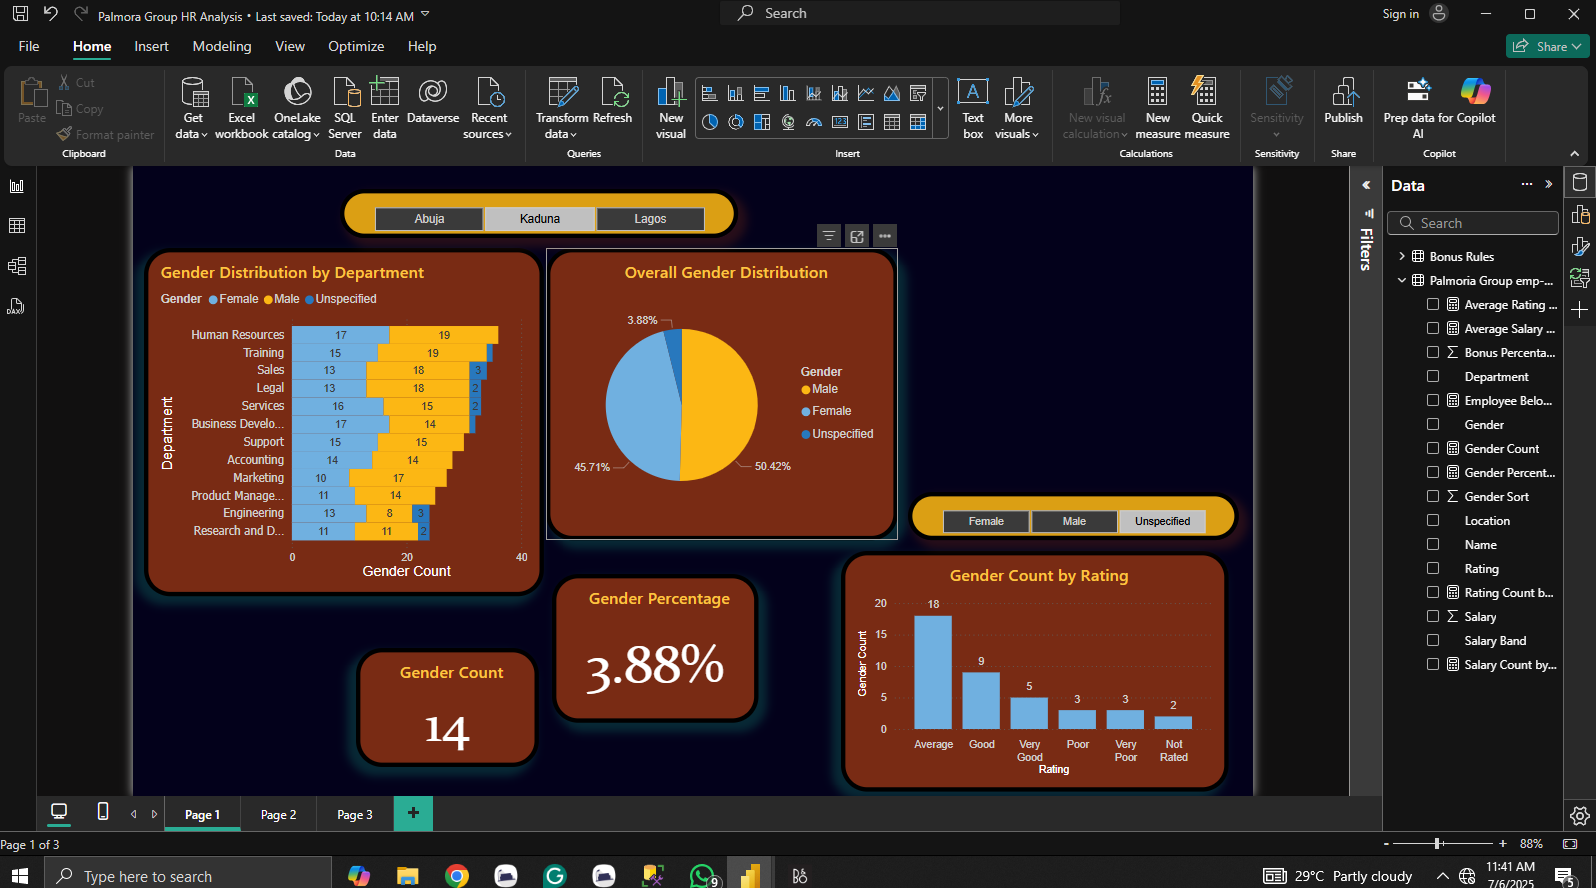

This screenshot's page, from the dashboard's own definition file:
{"tool":"powerbi","page":{"name":"Page 1","canvas":[1280,720],"ordinal":0},"visuals":[{"type":"barChart","title":"Gender Distribution by Department","fields":{"Category":["Palmoria Group emp-data (ORIGINAL).Department"],"Series":["Palmoria Group emp-data (ORIGINAL).Gender"],"Y":["Palmoria Group emp-data (ORIGINAL).Gender Count"]},"box":[12.6,93.7,457.1,397.7],"z":0},{"type":"pieChart","title":"Overall Gender Distribution","fields":{"Category":["Palmoria Group emp-data (ORIGINAL).Gender"],"Y":["Palmoria Group emp-data (ORIGINAL).Gender Percentage"]},"box":[472,93.7,402.3,333.7],"z":1000},{"type":"slicer","fields":{"Values":["Palmoria Group emp-data (ORIGINAL).Location"]},"box":[236.6,26.3,454.9,56],"z":2000},{"type":"clusteredColumnChart","fields":{"Category":["Palmoria Group emp-data (ORIGINAL).Rating"],"Y":["Palmoria Group emp-data (ORIGINAL).Gender Count"]},"box":[809.1,440,443.4,275.4],"z":3000},{"type":"slicer","fields":{"Values":["Palmoria Group emp-data (ORIGINAL).Gender"]},"box":[885.7,372.6,378.3,54.9],"z":4000},{"type":"card","title":"Gender Count","fields":{"Values":["Palmoria Group emp-data (ORIGINAL).Gender Count"]},"box":[254.7,551.1,208.8,136.1],"z":5000},{"type":"card","title":"Gender Percentage","fields":{"Values":["Palmoria Group emp-data (ORIGINAL).Gender Percentage"]},"box":[478.3,466.2,235.8,169.8],"z":6000}]}

Visuals, with their boxes on the page's 1280x720 design canvas (x1, y1, x2, y2). These are canvas units, not pixel positions in the 1596x888 screenshot, which may show the page scaled, cropped or inside an application window:
"Gender Distribution by Department" barChart: bbox=[13, 94, 470, 491]
"Overall Gender Distribution" pieChart: bbox=[472, 94, 874, 427]
slicer - Palmoria Group emp-data (ORIGINAL).Location: bbox=[237, 26, 692, 82]
clusteredColumnChart - Palmoria Group emp-data (ORIGINAL).Rating x Palmoria Group emp-data (ORIGINAL).Gender Count: bbox=[809, 440, 1252, 715]
slicer - Palmoria Group emp-data (ORIGINAL).Gender: bbox=[886, 373, 1264, 428]
"Gender Count" card: bbox=[255, 551, 464, 687]
"Gender Percentage" card: bbox=[478, 466, 714, 636]
